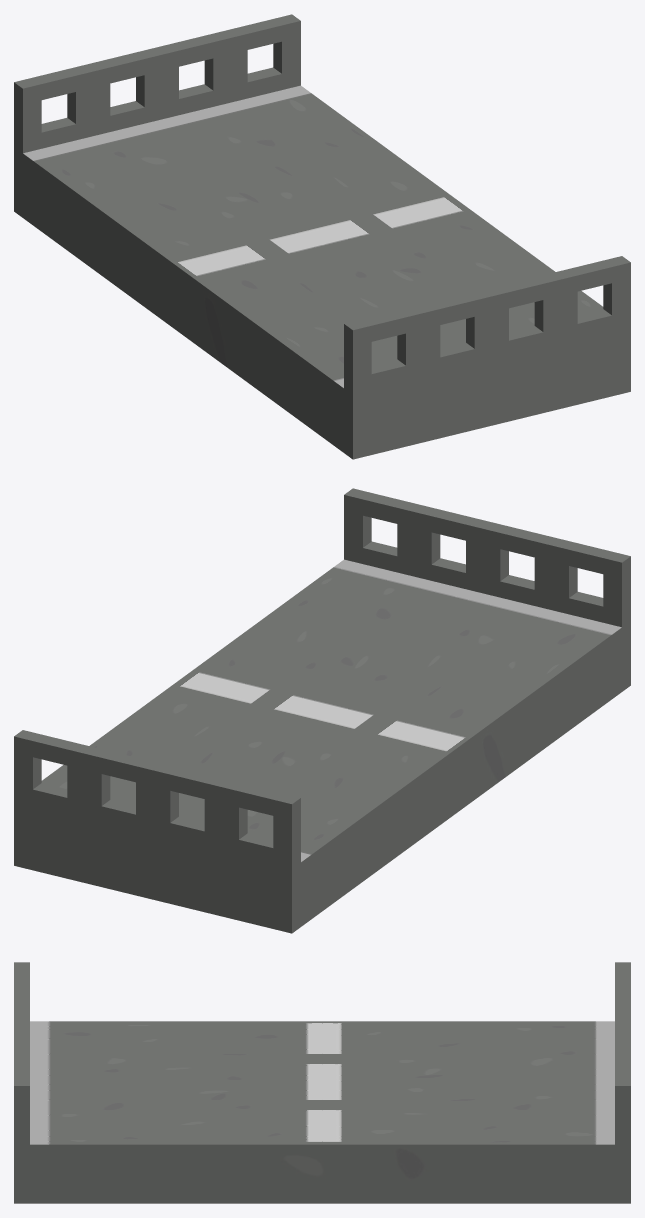
3 renders of one model, top to bottom at view 1: azimuth 30°, elevation 25°; view 2: azimuth 150°, elevation 25°; view 3: azimuth 270°, elevation 25°, orthographic. The views are drawn at different scales.
Parts seen in each view (by area): view 1: road_seg; view 2: road_seg; view 3: road_seg.
Boxes of the visible parts, x1,y1,x2,y2 form: road_seg: (14, 14, 630, 459); road_seg: (14, 488, 630, 933); road_seg: (14, 962, 630, 1203).
Bounding box in the file's own units: 1.8 × 0.8 × 3.8.
1 material, 1 textured.
